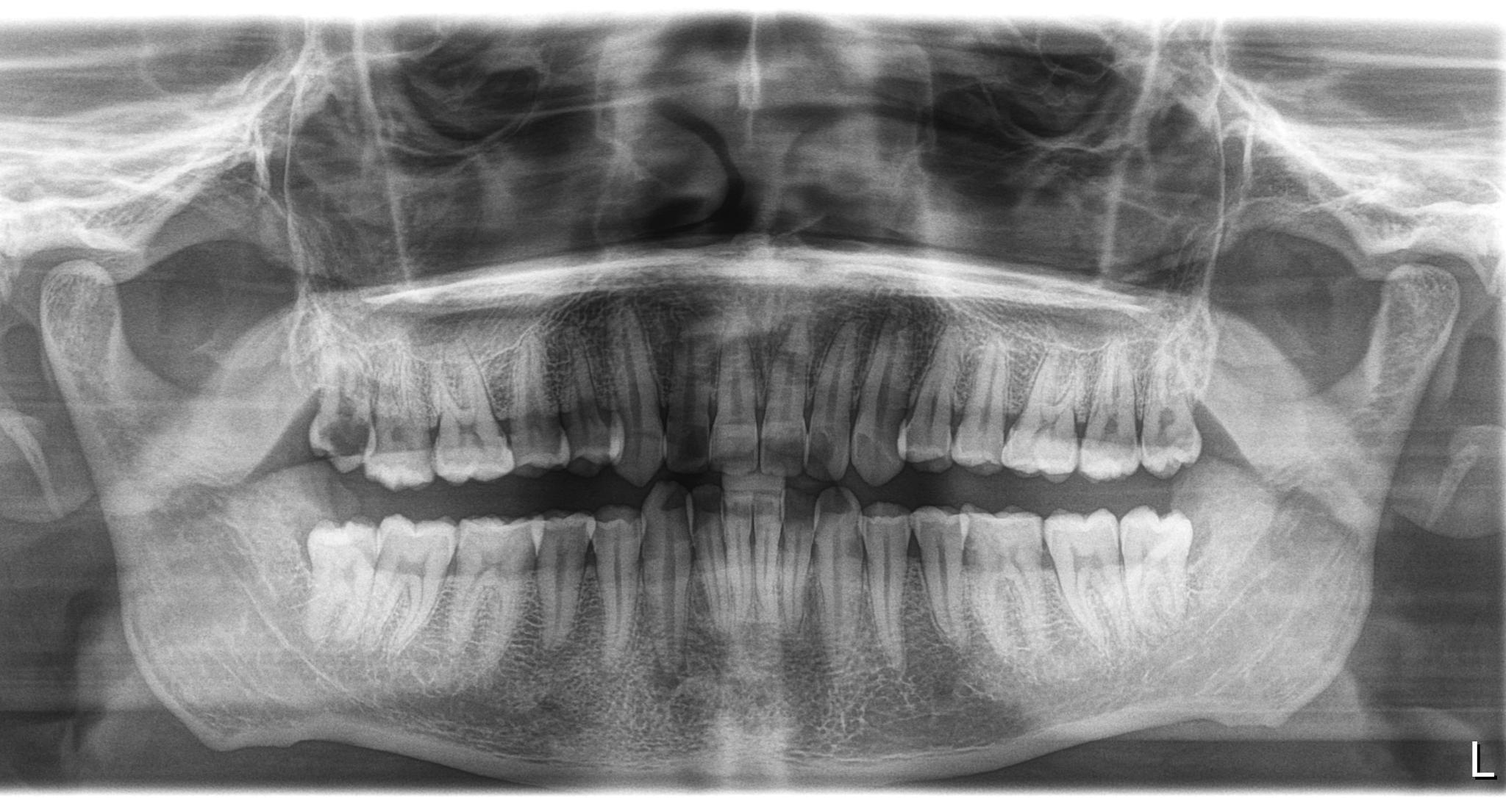Dental Caries: (303, 397, 380, 469)
Impacted Third Molar: (257, 509, 382, 647), (1121, 520, 1255, 625)
